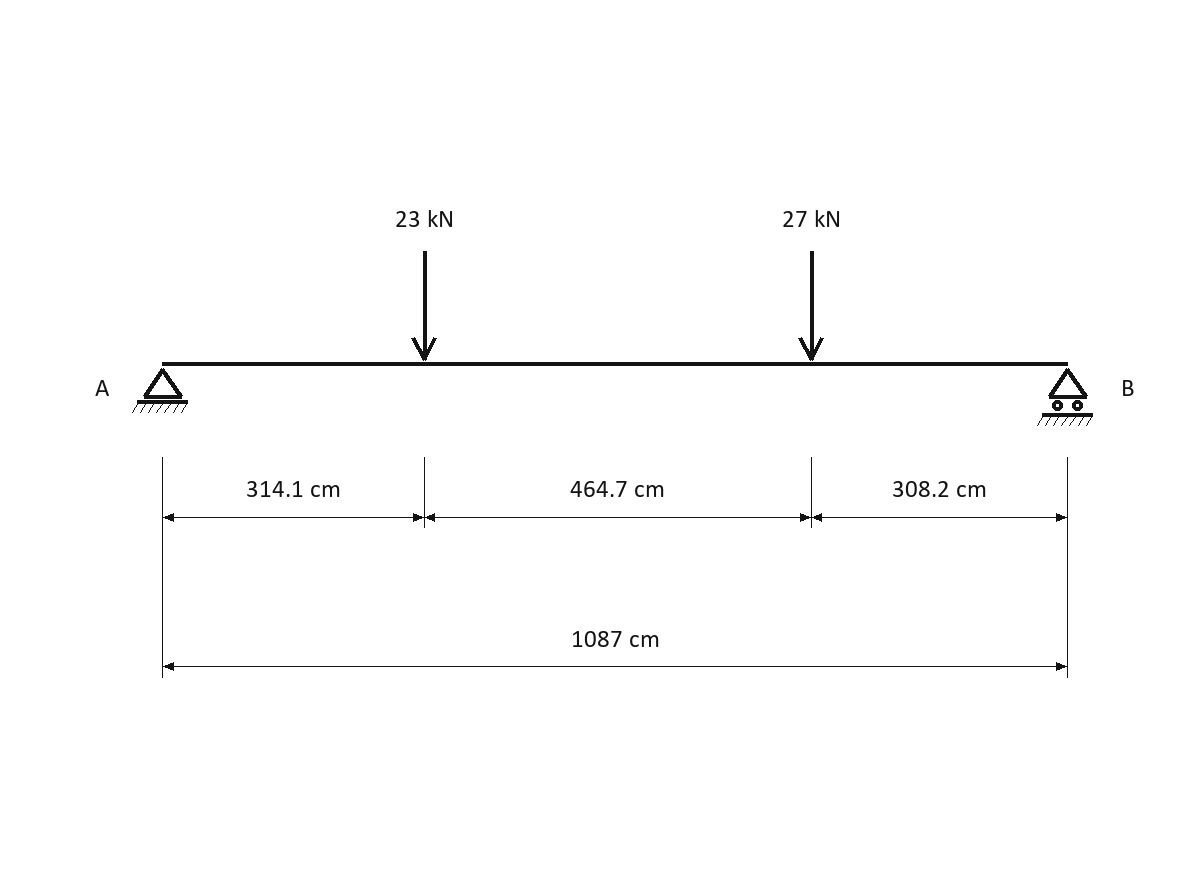pin_support: (132, 368, 188, 413)
point_load: (411, 251, 437, 361), (798, 251, 824, 361)
roller_support: (1037, 368, 1093, 426)
